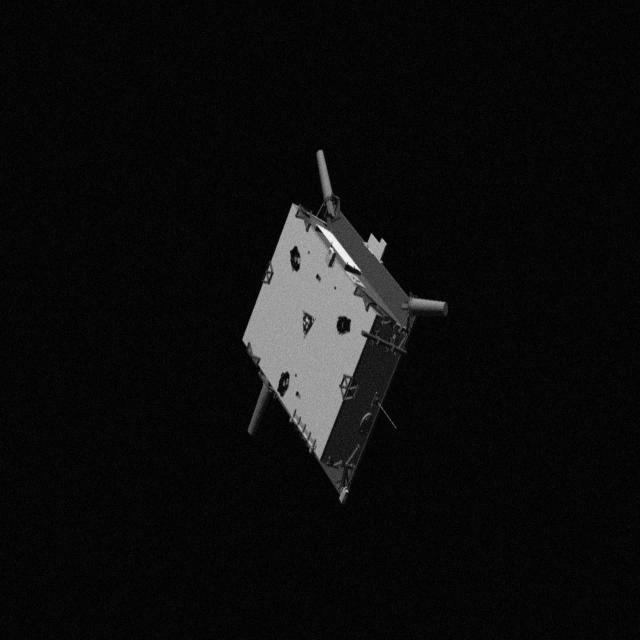medium_debris: (236, 148, 458, 512)
